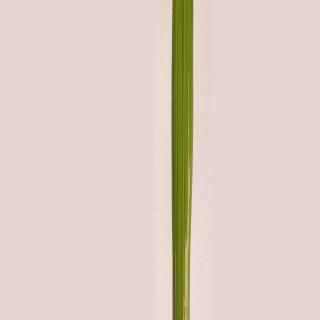Hawar-Daun: (176, 105, 198, 320)
